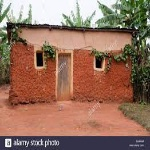House: (5, 20, 137, 106)
